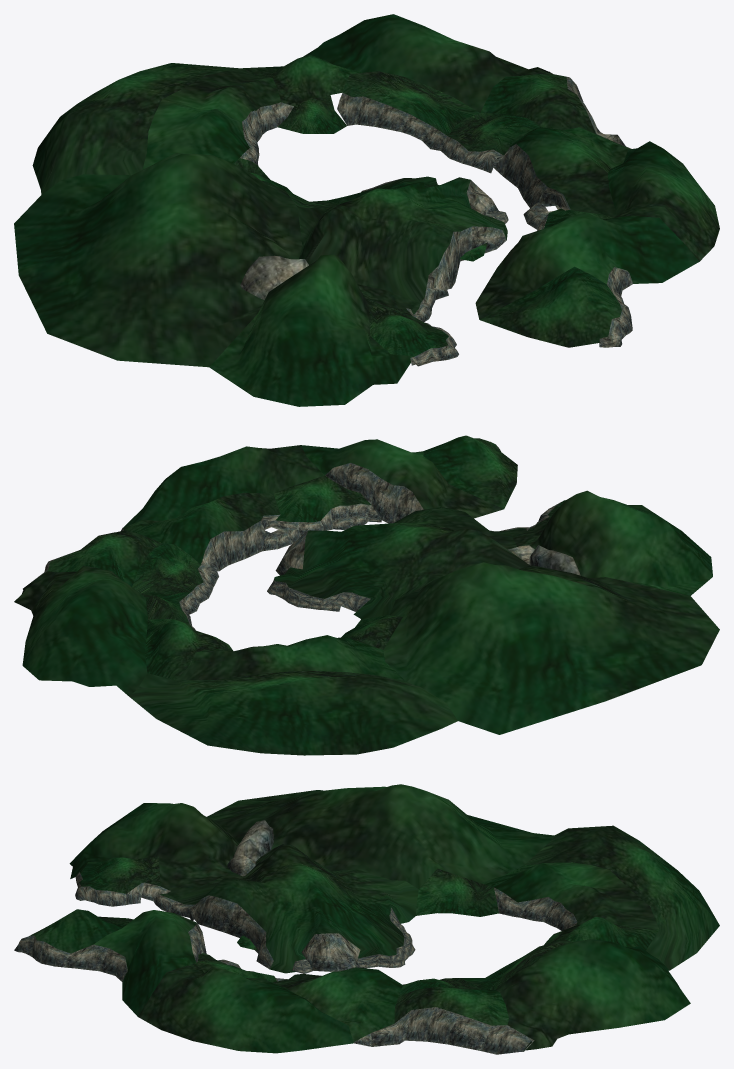
File: pir_m_are_isl_pearl_low.fbx
The picture shows the model from 3 angles, top to bottom: view 1: azimuth 30°, elevation 25°; view 2: azimuth 150°, elevation 25°; view 3: azimuth 270°, elevation 25°; orthographic projection. The views are drawn at different scales.
Visible parts, largest first — view 1: backHills, cliff_10, cliff_6, mound_large1_high1, cliff_1, hill31; view 2: backHills, cliff_10, cliff_8, hill25, hill21, mound_large1_high1, rock_12, rock_11; view 3: backHills, cliff_7, cliff_6, cliff_1, rock_11, cliff_10, hill31, mound_large1_high1, hill21.
Part boxes in pixels (left/top/right/bottom): backHills: left=14, top=14, right=719, bottom=406; cliff_10: left=240, top=93, right=570, bottom=210; cliff_6: left=414, top=226, right=506, bottom=321; mound_large1_high1: left=240, top=255, right=308, bottom=300; cliff_1: left=599, top=267, right=632, bottom=347; hill31: left=406, top=308, right=458, bottom=366; backHills: left=14, top=435, right=719, bottom=755; cliff_10: left=179, top=514, right=280, bottom=630; cliff_8: left=325, top=463, right=423, bottom=523; hill25: left=268, top=503, right=381, bottom=536; hill21: left=267, top=568, right=370, bottom=611; mound_large1_high1: left=530, top=545, right=580, bottom=575; rock_12: left=262, top=525, right=300, bottom=551; rock_11: left=275, top=531, right=307, bottom=575; backHills: left=29, top=784, right=719, bottom=1053; cliff_7: left=353, top=1007, right=534, bottom=1054; cliff_6: left=154, top=894, right=273, bottom=969; cliff_1: left=14, top=935, right=127, bottom=981; rock_11: left=301, top=933, right=365, bottom=971; cliff_10: left=403, top=887, right=577, bottom=984; hill31: left=75, top=872, right=170, bottom=906; mound_large1_high1: left=233, top=820, right=273, bottom=861; hill21: left=358, top=907, right=415, bottom=968.
Bounding box in the file's own units: 848481 × 133728 × 932045.
Materials: 1 (1 with a texture image).
